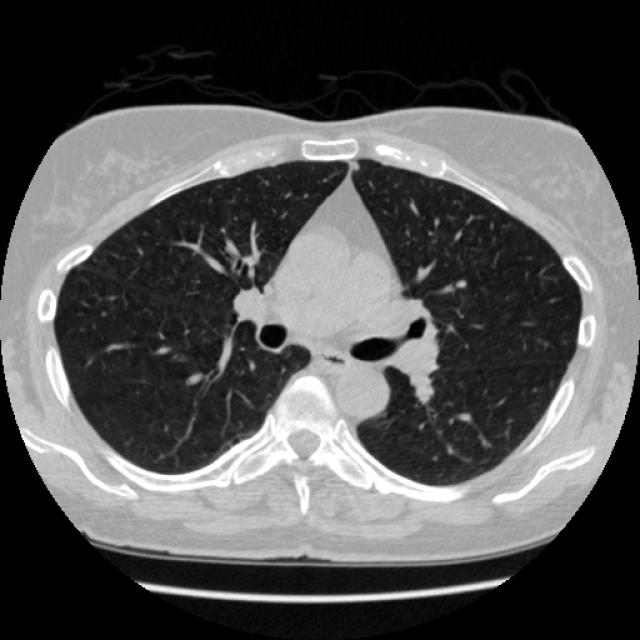nodule: (450, 272, 470, 292)
